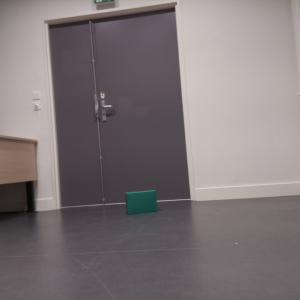small: (124, 188, 161, 216)
